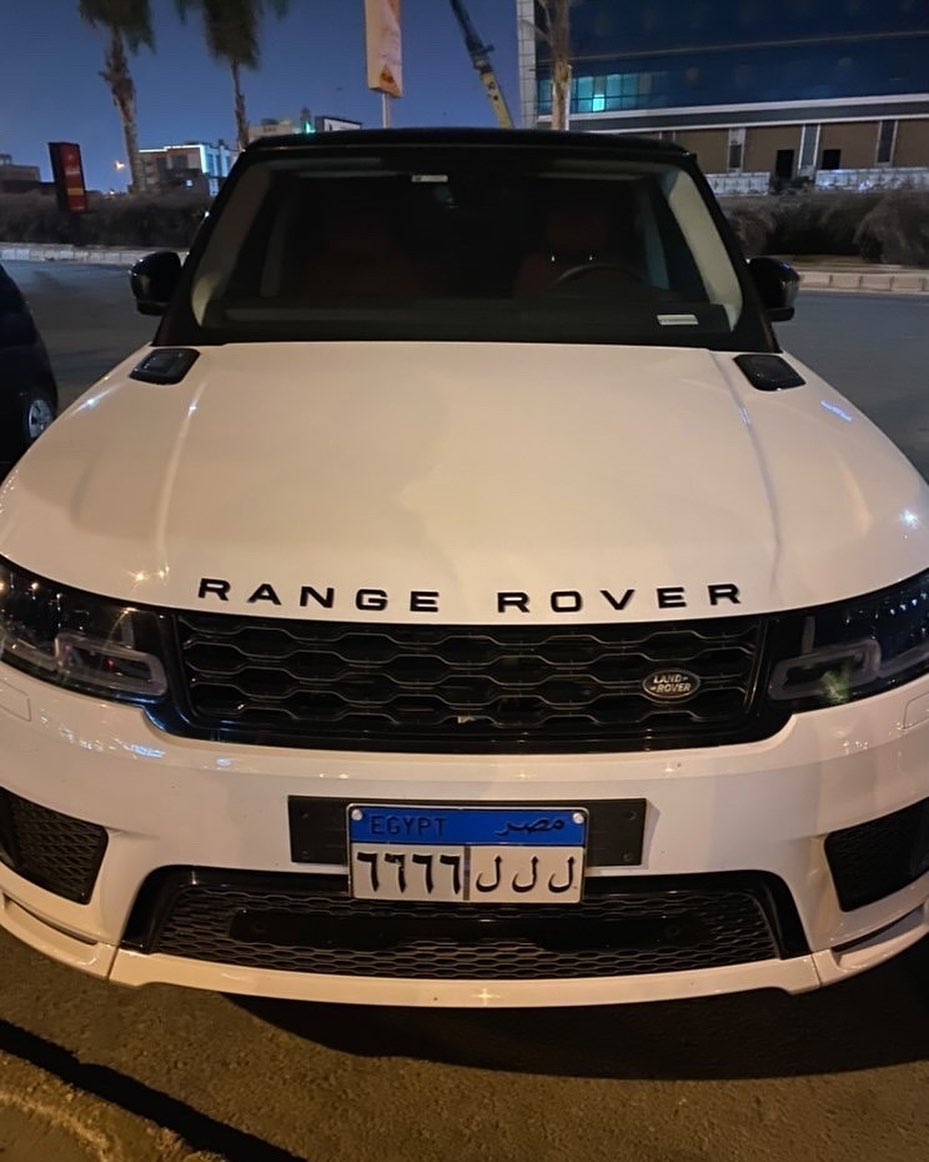carpl: (337, 793, 589, 911)
